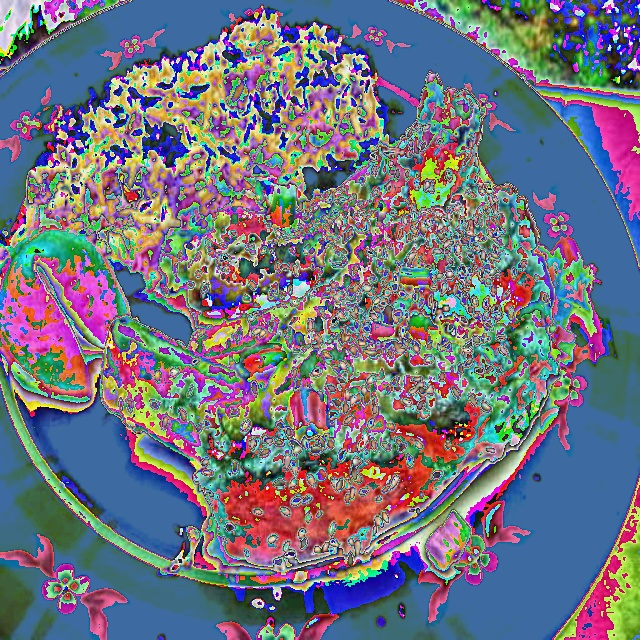background: (0, 2, 600, 569)
